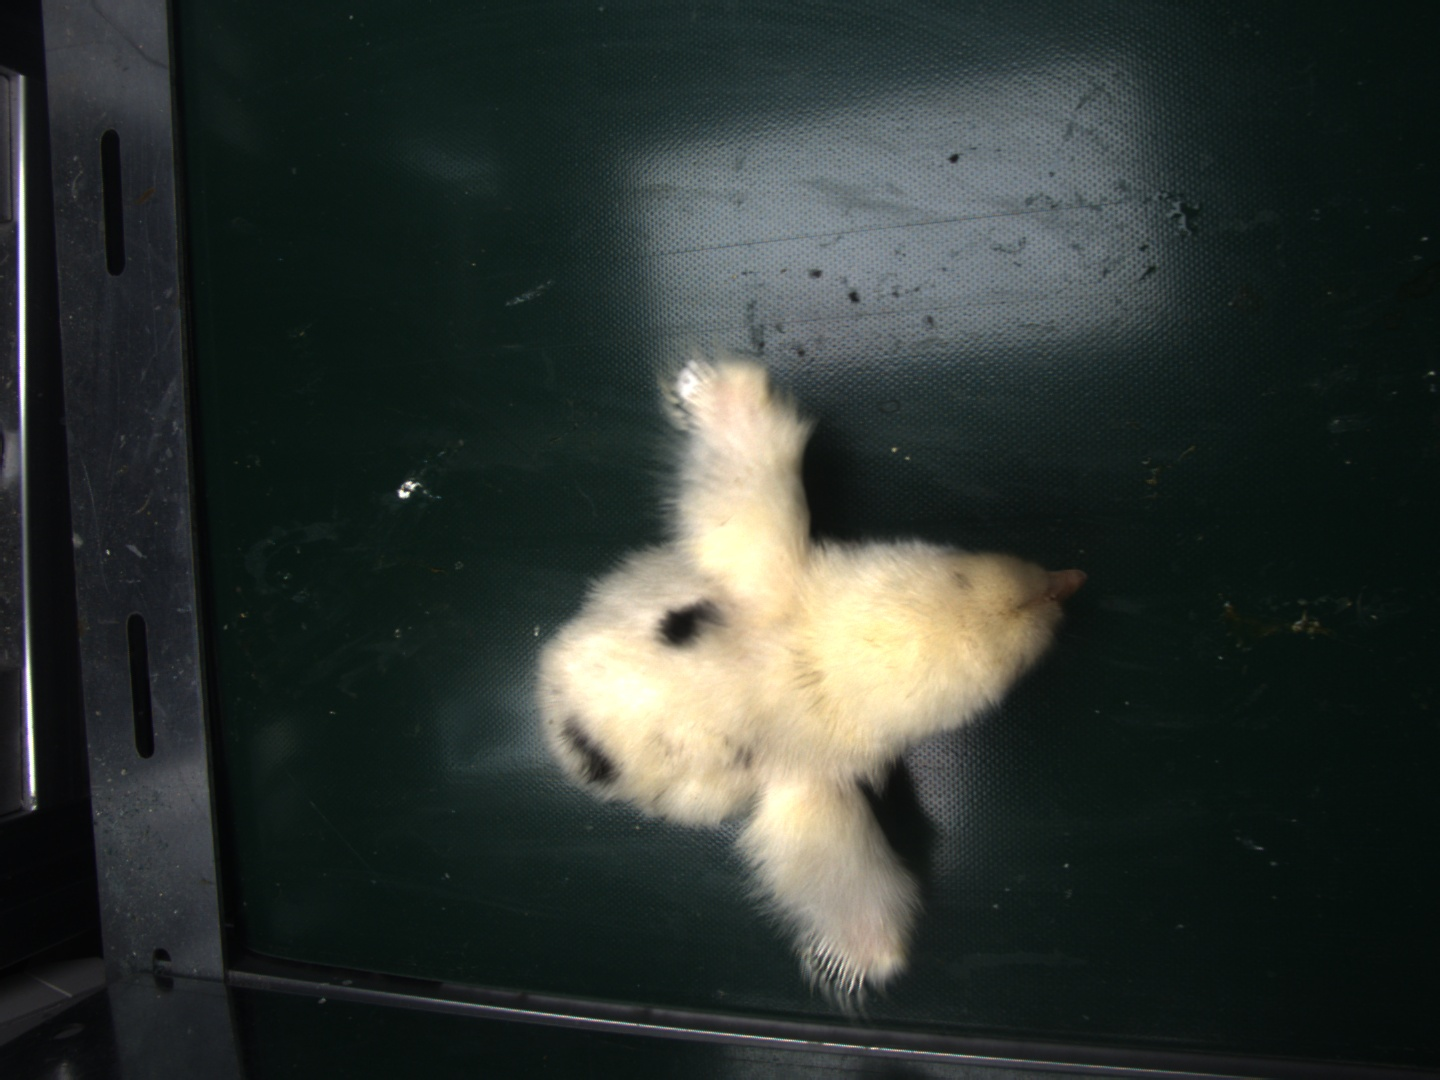male: (804, 933, 872, 998)
